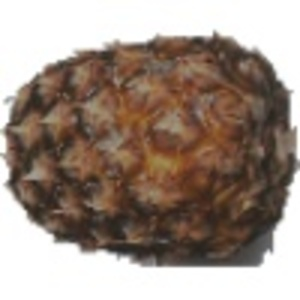abacaxi: (1, 25, 300, 256)
